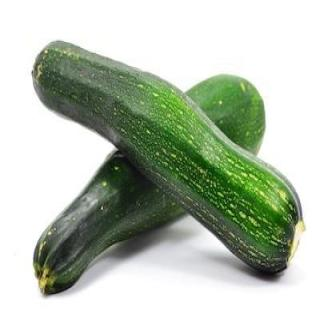Zucchini: (33, 42, 303, 272), (34, 152, 183, 292)
